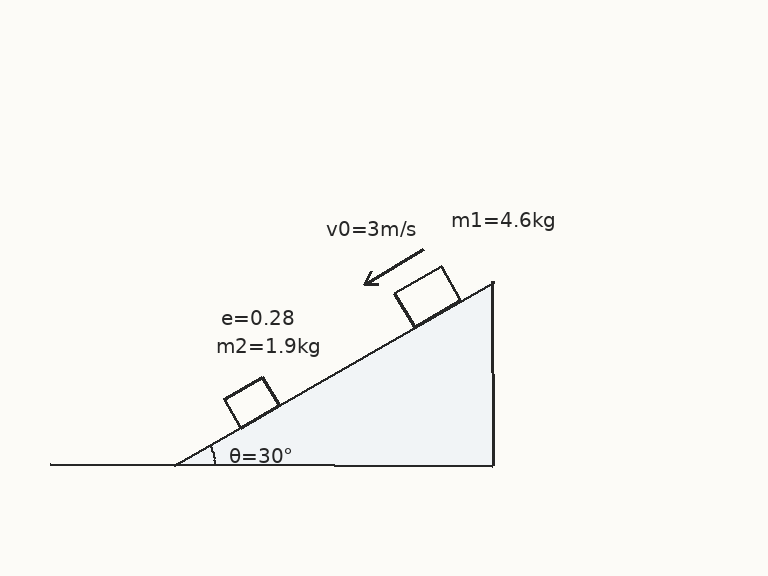block: (392, 264, 462, 329), (222, 375, 280, 429)
ramp: (173, 279, 495, 467)
